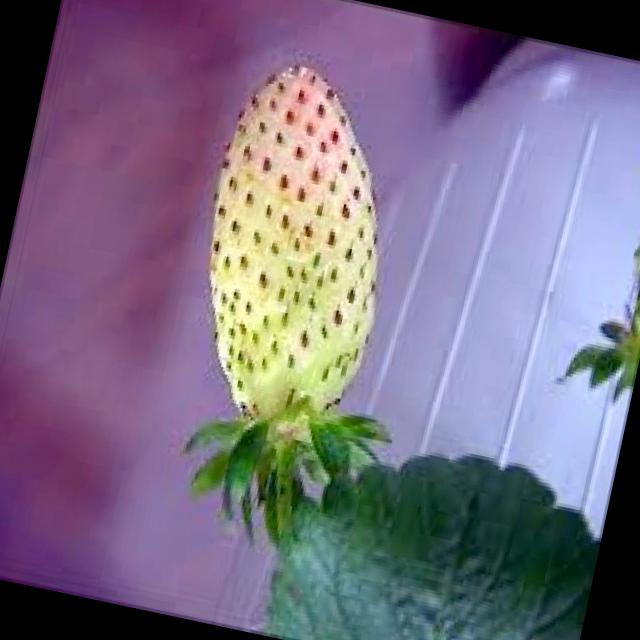strawberry: (170, 52, 423, 442)
